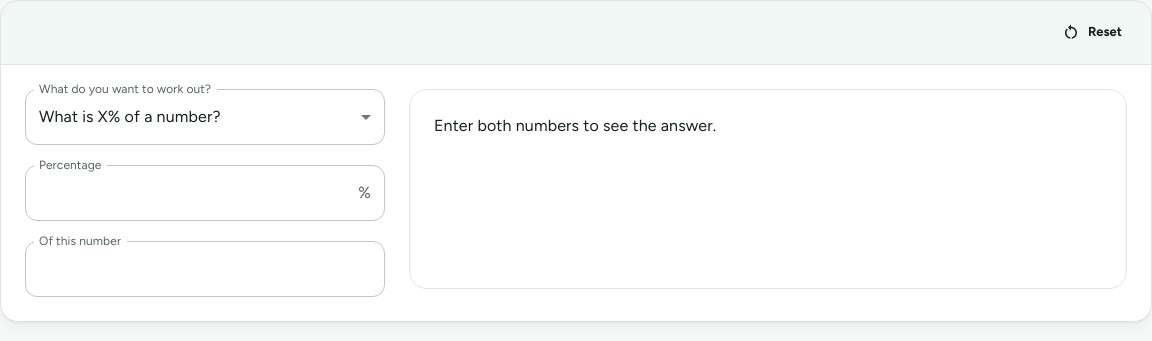
Test: PercentageCalculatorTool › answers in a sentence as the numbers are typed
Type "15" into the number field labelled "Percentage". click: (188, 193)
box: [25,165,350,221]
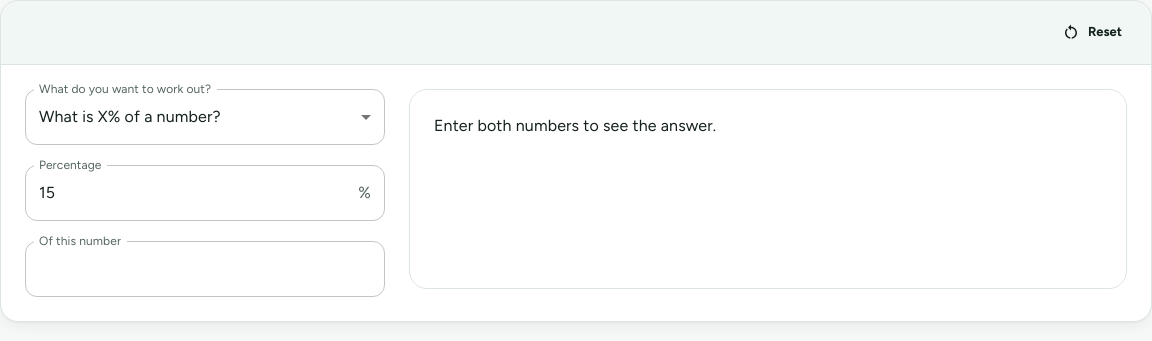
Type "200" into the number field labelled "Of this number". click: (205, 269)
box: [25,241,385,297]
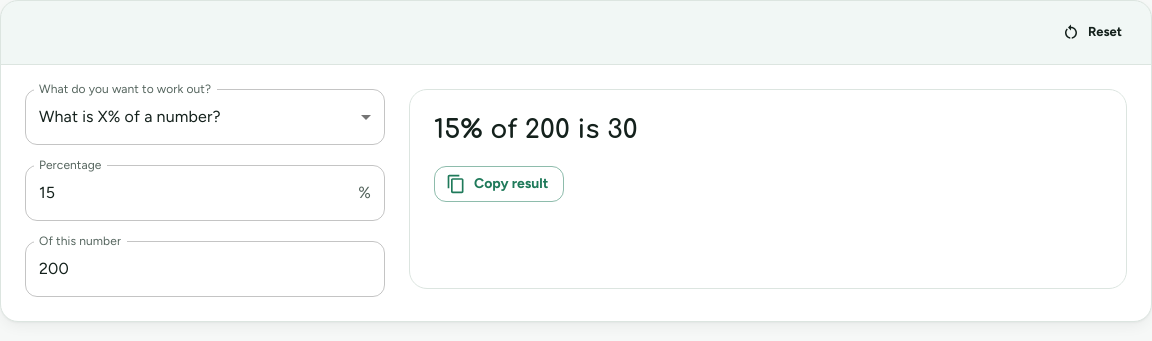
Now the text "15% of 200 is 30" is shown, box [434,115,638,144]
Now the button "Copy result" is shown, box [434,166,564,202]
